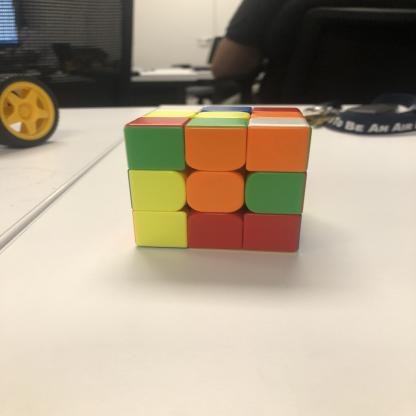UnsolvedCube: (112, 100, 312, 261)
